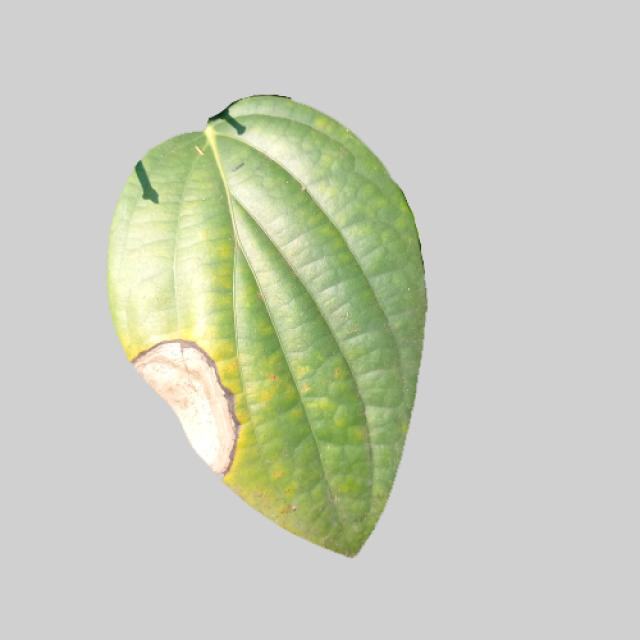leaf-blight: (91, 102, 439, 558)
